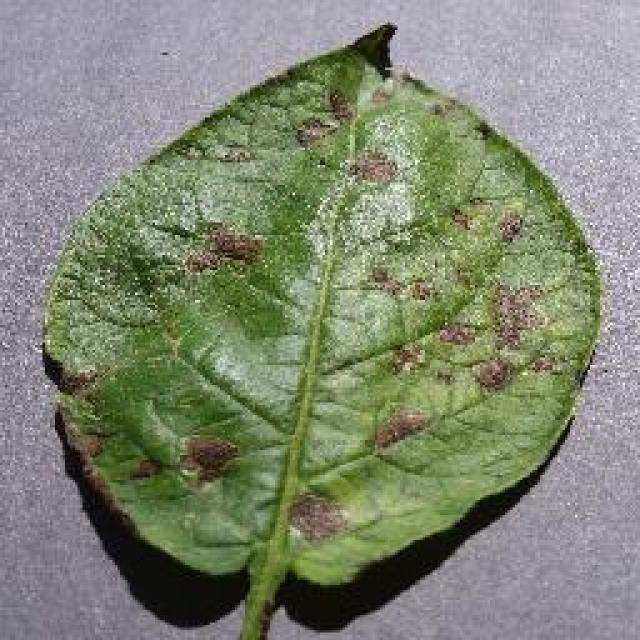early_blight: (38, 17, 608, 635)
